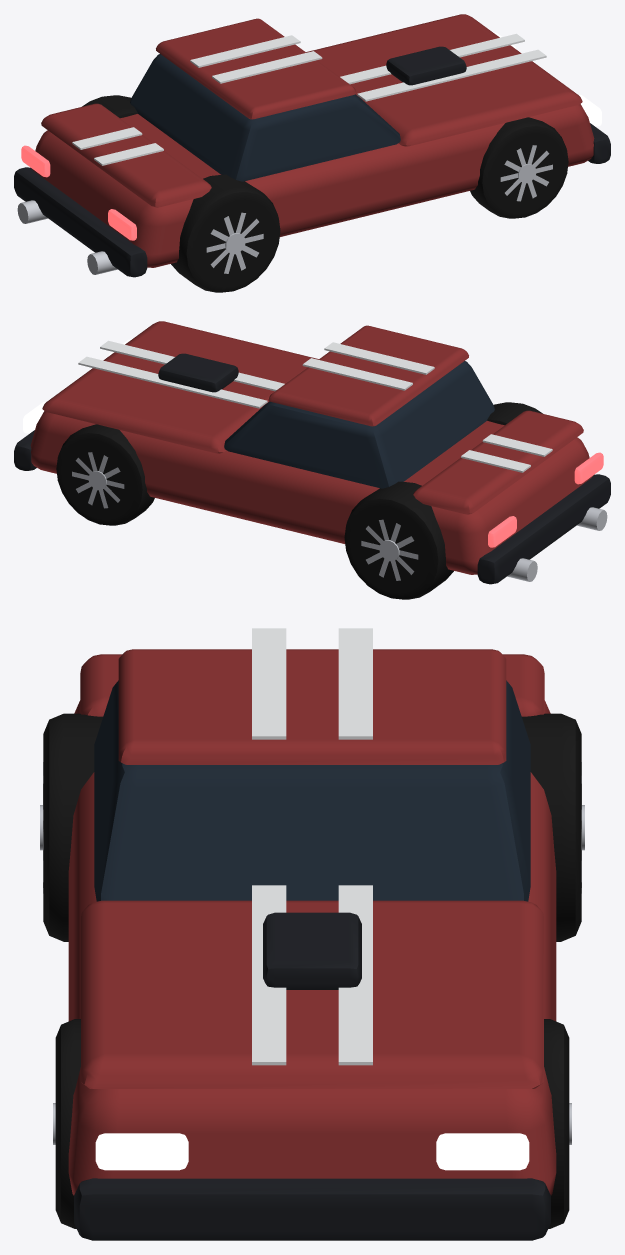
The model's file is muscle.glb.
3 renders of one model, top to bottom at view 1: azimuth 30°, elevation 25°; view 2: azimuth 150°, elevation 25°; view 3: azimuth 270°, elevation 25°, orthographic. The views are drawn at different scales.
Parts seen in each view (by area): view 1: part-paint, part-glass, wheel--11--1-tyre, part-trim, part-livery-white, wheel-+11--1-tyre, wheel--11--1-hub, wheel-+11--1-hub, part-taillight, part-chrome, wheel--11-1-tyre, headlight--1; view 2: part-paint, part-glass, wheel--11-1-tyre, part-trim, part-livery-white, wheel-+11-1-tyre, wheel--11-1-hub, wheel-+11-1-hub, part-taillight, part-chrome, wheel--11--1-tyre, headlight-1; view 3: part-paint, part-glass, part-trim, part-livery-white, wheel--11-1-tyre, wheel--11--1-tyre, wheel-+11-1-tyre, wheel-+11--1-tyre, headlight-1, headlight--1.
Boxes of the visible parts, <box> form: part-paint: <box>31,14,594,267</box>; part-glass: <box>130,54,400,181</box>; wheel--11--1-tyre: <box>171,174,280,292</box>; part-trim: <box>14,46,610,277</box>; part-livery-white: <box>72,33,546,165</box>; wheel-+11--1-tyre: <box>470,117,568,218</box>; wheel--11--1-hub: <box>206,212,263,273</box>; wheel-+11--1-hub: <box>500,145,552,201</box>; part-taillight: <box>21,145,136,240</box>; part-chrome: <box>17,200,117,274</box>; wheel--11-1-tyre: <box>82,95,137,118</box>; headlight--1: <box>578,94,601,126</box>; part-paint: <box>30,321,593,574</box>; part-glass: <box>224,361,494,488</box>; wheel--11-1-tyre: <box>344,481,453,599</box>; part-trim: <box>14,353,610,584</box>; part-livery-white: <box>78,340,552,472</box>; wheel-+11-1-tyre: <box>56,424,154,525</box>; wheel--11-1-hub: <box>361,519,418,580</box>; wheel-+11-1-hub: <box>72,452,124,508</box>; part-taillight: <box>488,452,603,547</box>; part-chrome: <box>507,507,607,581</box>; wheel--11--1-tyre: <box>487,402,542,425</box>; headlight-1: <box>23,401,46,433</box>; part-paint: <box>68,649,556,1195</box>; part-glass: <box>94,680,530,901</box>; part-trim: <box>74,912,550,1240</box>; part-livery-white: <box>252,628,372,1065</box>; wheel--11-1-tyre: <box>522,713,581,941</box>; wheel--11--1-tyre: <box>43,713,102,941</box>; wheel-+11-1-tyre: <box>544,1019,569,1228</box>; wheel-+11--1-tyre: <box>55,1019,80,1228</box>; headlight-1: <box>436,1133,529,1170</box>; headlight--1: <box>95,1133,188,1170</box>.
Size of the model in its own units: 37.1 by 11.81 by 17.6.
